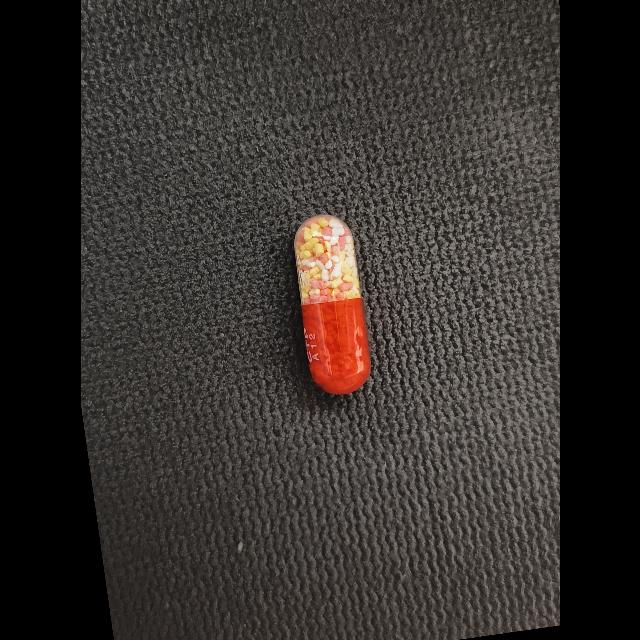Intact Capsule: (293, 214, 371, 394)
